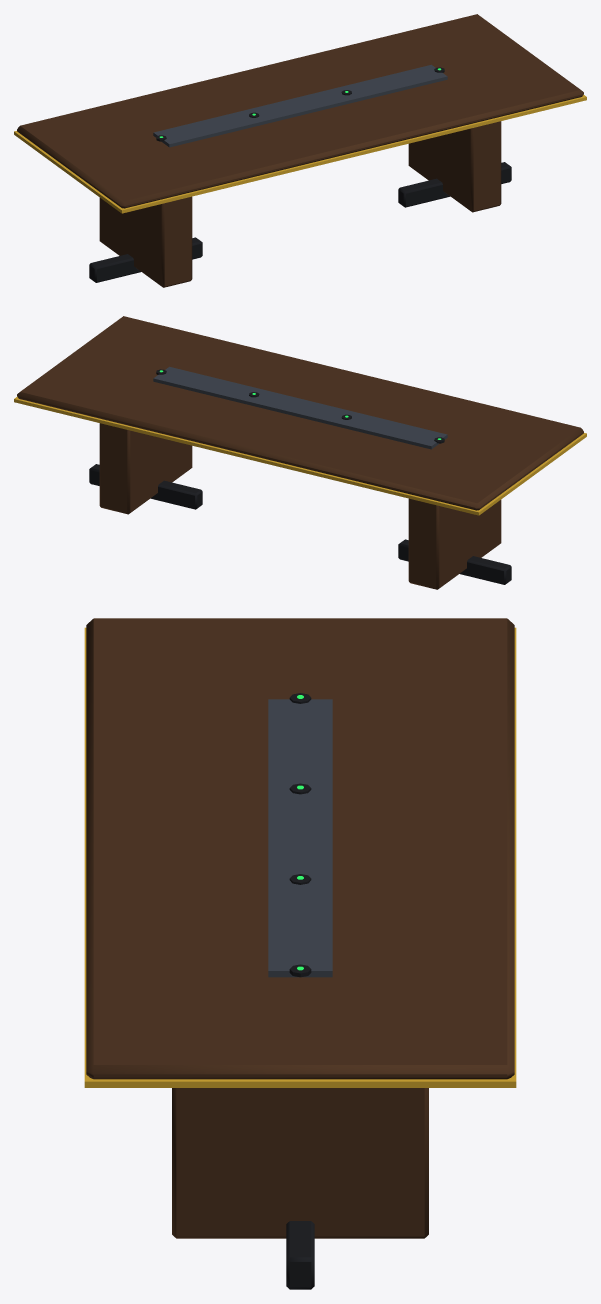
File: table_conference_table.glb
3 renders of one model, top to bottom at view 1: azimuth 30°, elevation 25°; view 2: azimuth 150°, elevation 25°; view 3: azimuth 270°, elevation 25°, orthographic. The views are drawn at different scales.
Parts seen in each view (by area): view 1: table_conference_table; view 2: table_conference_table; view 3: table_conference_table.
Part boxes in pixels (x1=…): table_conference_table: x1=14, y1=14, x2=586, y2=287; table_conference_table: x1=14, y1=316, x2=586, y2=589; table_conference_table: x1=84, y1=618, x2=516, y2=1289.
Bounding box in the file's own units: 3.01 × 0.7895 × 1.21.
